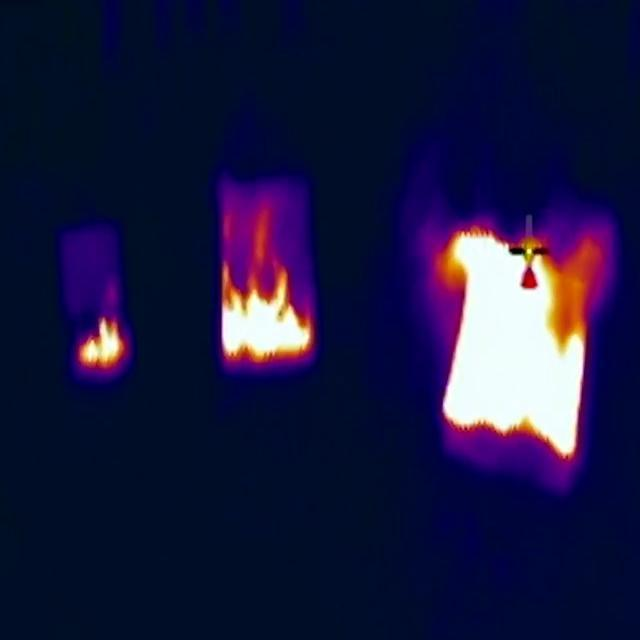fire: (442, 219, 595, 462), (220, 193, 315, 370), (76, 310, 130, 377)
